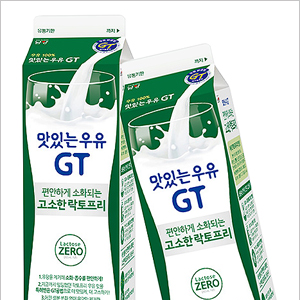milk: (120, 44, 277, 300), (22, 15, 134, 299)
